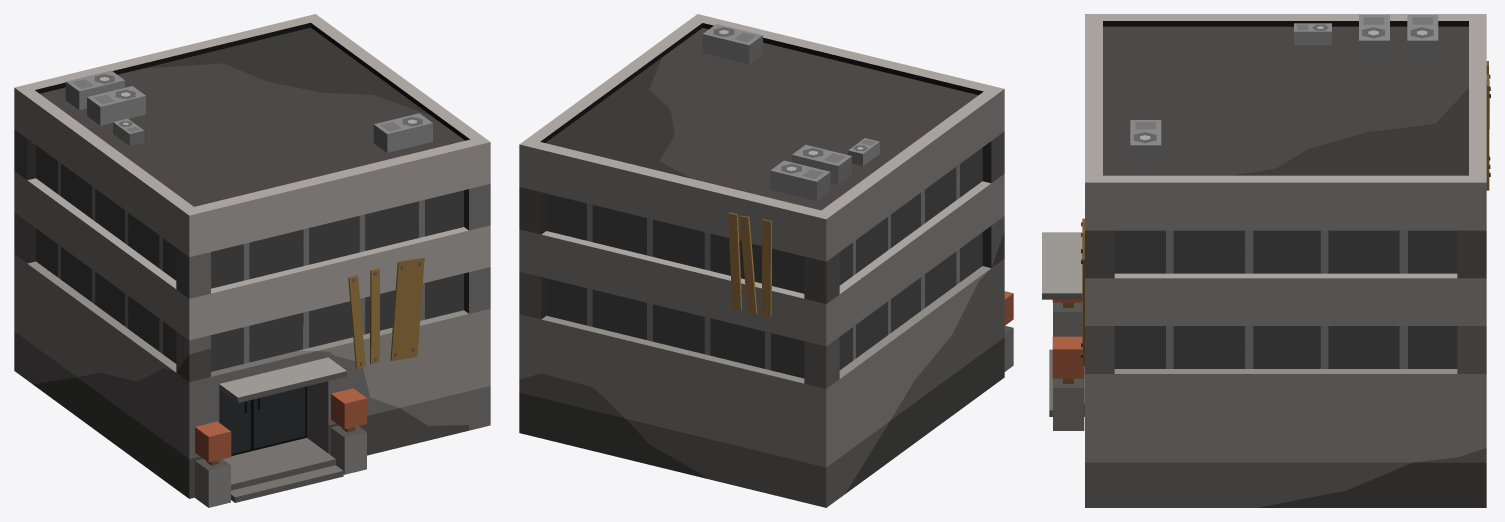
The model's file is SA_Bld_OfficeGrey_01.glb.
3 renders of one model, left to right at view 1: azimuth 30°, elevation 25°; view 2: azimuth 150°, elevation 25°; view 3: azimuth 270°, elevation 25°, orthographic. The views are drawn at different scales.
Parts seen in each view (by area): view 1: SA_Bld_OfficeGrey_01; view 2: SA_Bld_OfficeGrey_01; view 3: SA_Bld_OfficeGrey_01.
Boxes of the visible parts, x1,y1,x2,y2 form: SA_Bld_OfficeGrey_01: (14,14,490,507); SA_Bld_OfficeGrey_01: (519,14,1013,507); SA_Bld_OfficeGrey_01: (1042,14,1490,507).
Size of the model in its own units: 5.72 by 5.39 by 6.43.
1 material, 1 textured.
